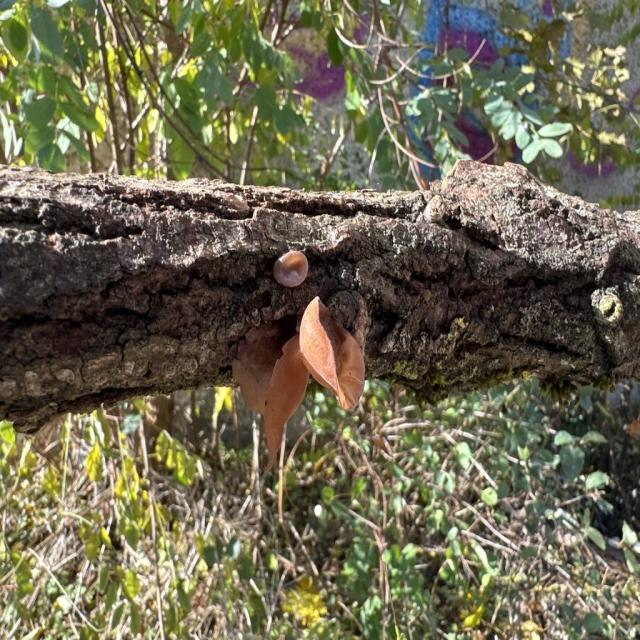Fase Muda: (272, 244, 319, 290)
Matang: (225, 294, 371, 462)
